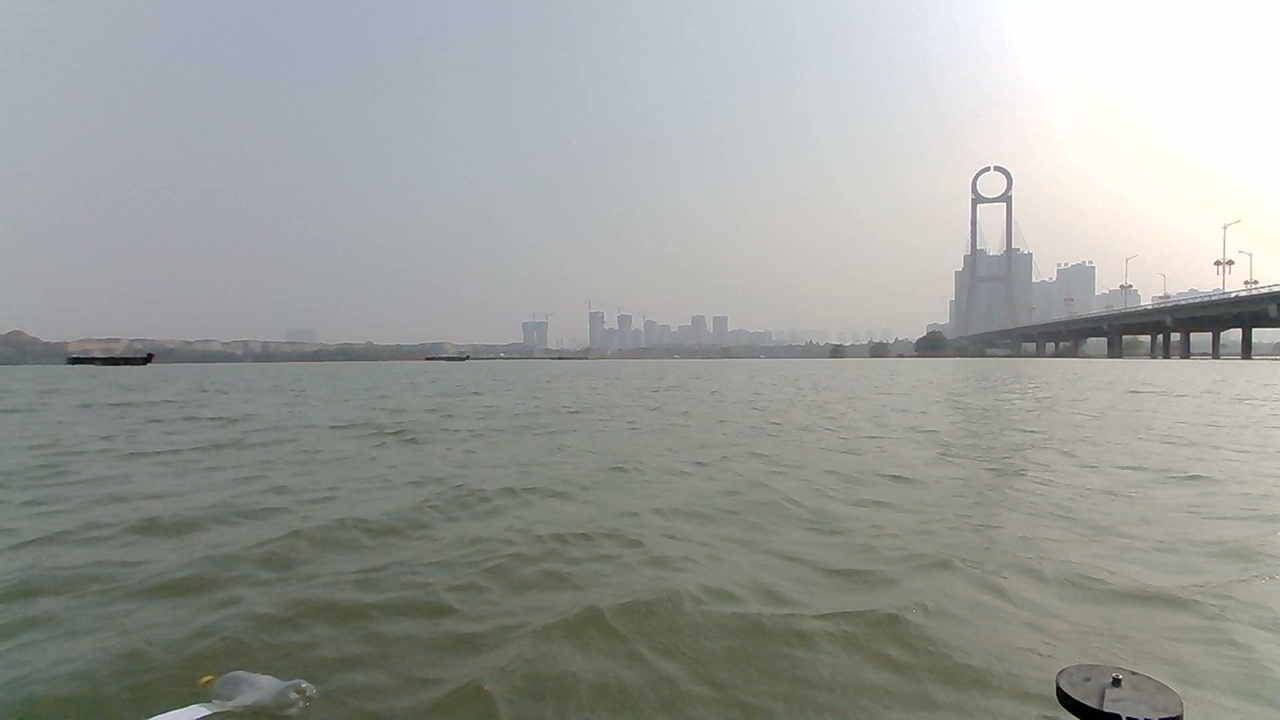bottle: (185, 641, 358, 719)
